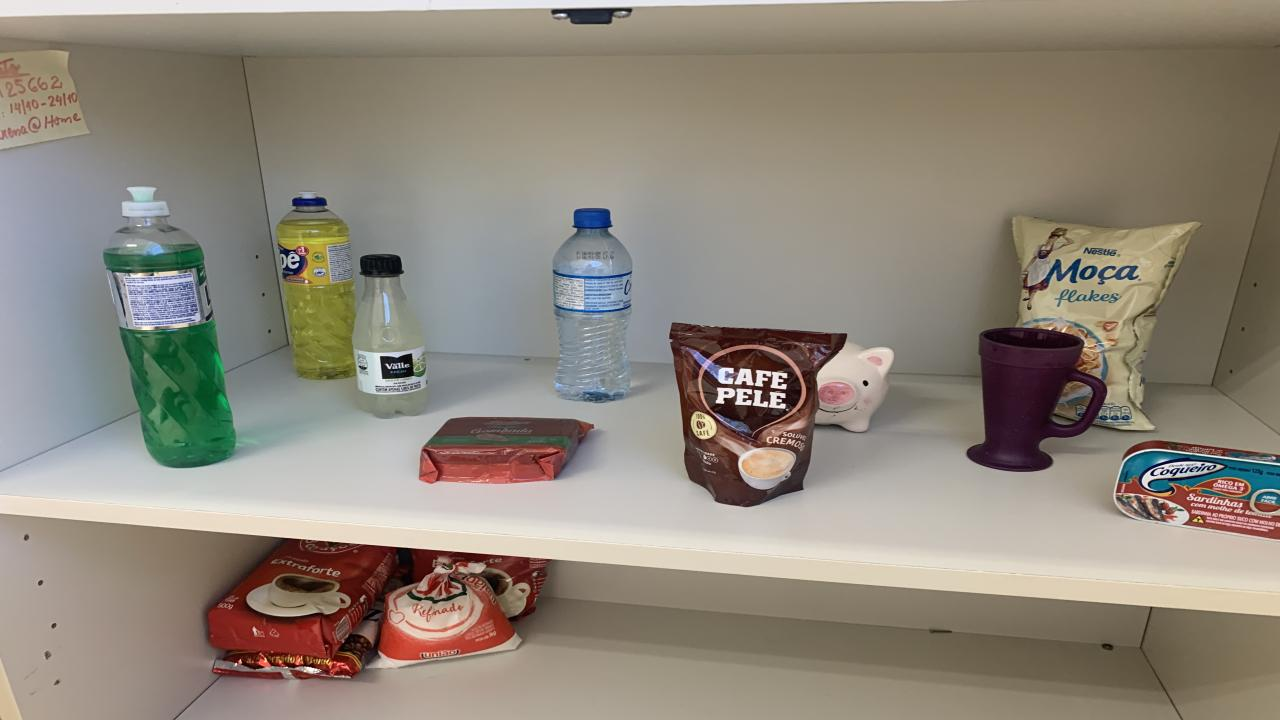Coffee-Pantry_Items: (670, 322, 845, 506)
Detergent-Cleanup_Items: (102, 188, 235, 467), (275, 191, 355, 379)
Flakes-Snacks: (1012, 216, 1200, 431)
Guava-Snacks: (420, 416, 592, 484)
Pig_Safe-Miscellaneous: (815, 341, 895, 431)
Soda-Drinks: (352, 255, 428, 418)
Tuna_Can-Pantry_Items: (1115, 441, 1280, 540)
Water_Bottle-Drinks: (552, 210, 632, 403)
